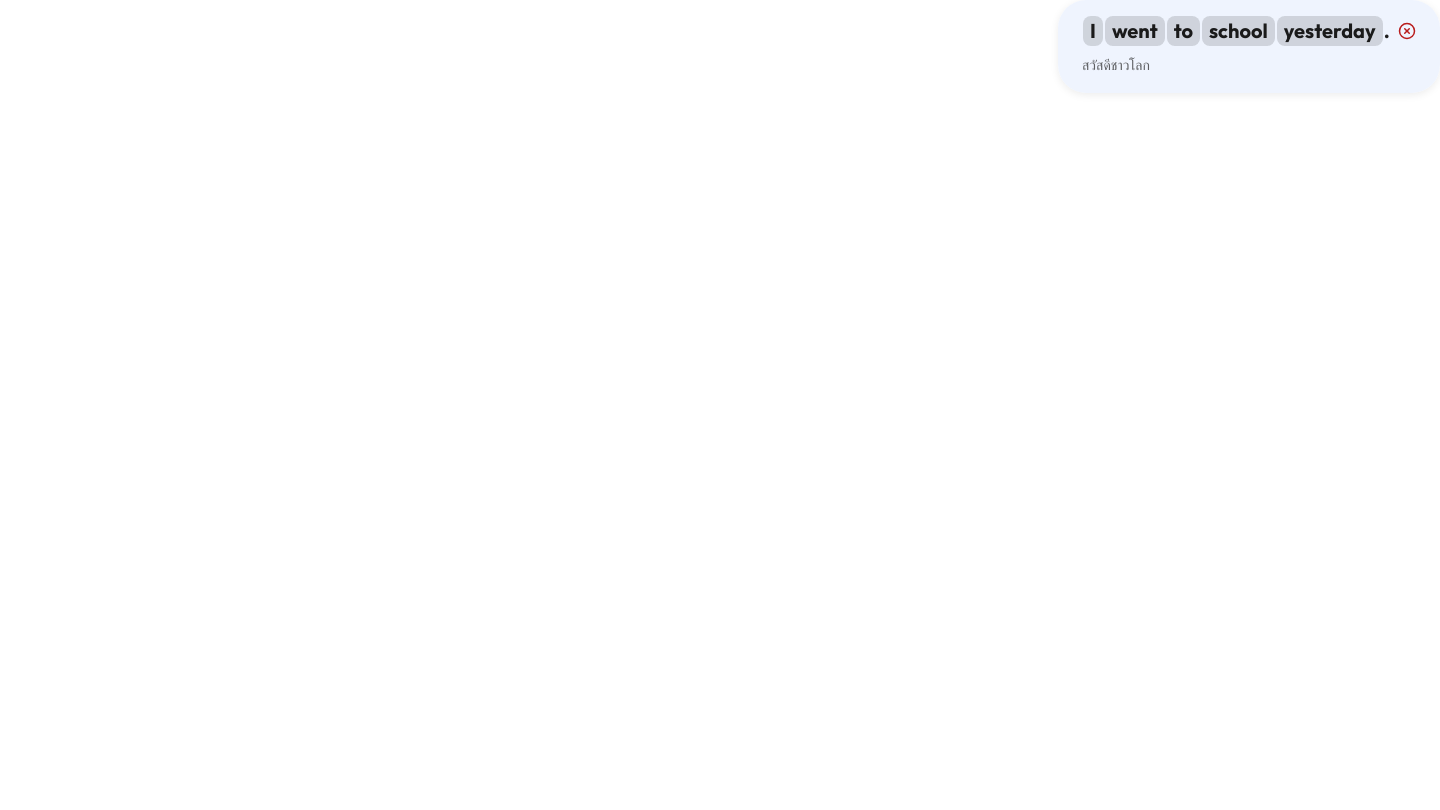
Test case: UserMessage › renders error icon and opens modal showing incorrect sentence, corrected sentence, and explanation
Note: Click to open modal
Click the button named "ดูรายละเอียดจุดที่ผิด". click: coordinates (1407, 31)
box: [1398,22,1416,40]
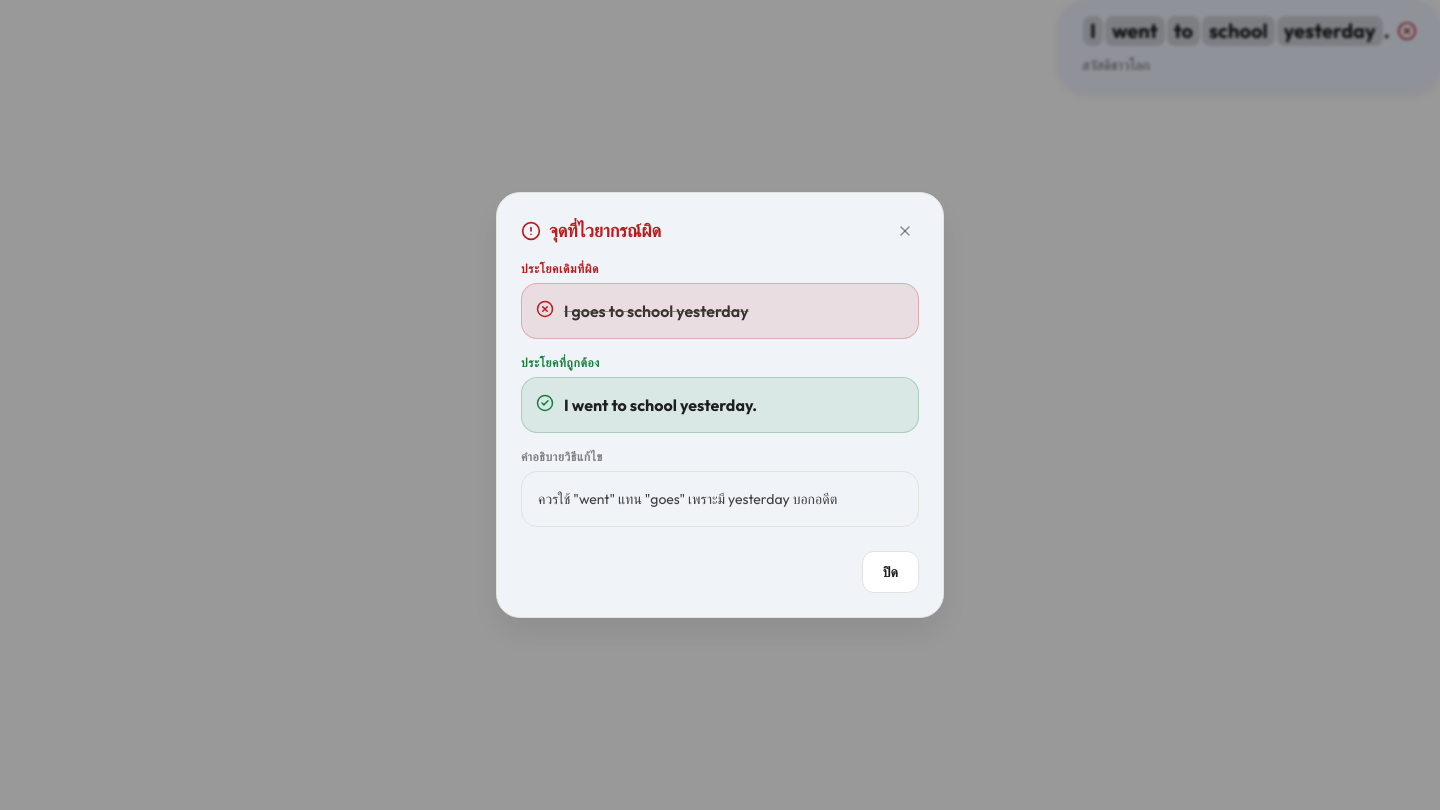
Expected: the text "จุดที่ไวยากรณ์ผิด" is shown, [549,217,661,245]
Expected: the text "ประโยคเดิมที่ผิด" is shown, [521,261,599,276]
Expected: the text "I goes to school yesterday" is shown, [564,298,749,324]
Note: Close modal
Click the button "ปิด". click: coordinates (890, 572)
box: [862,551,919,593]
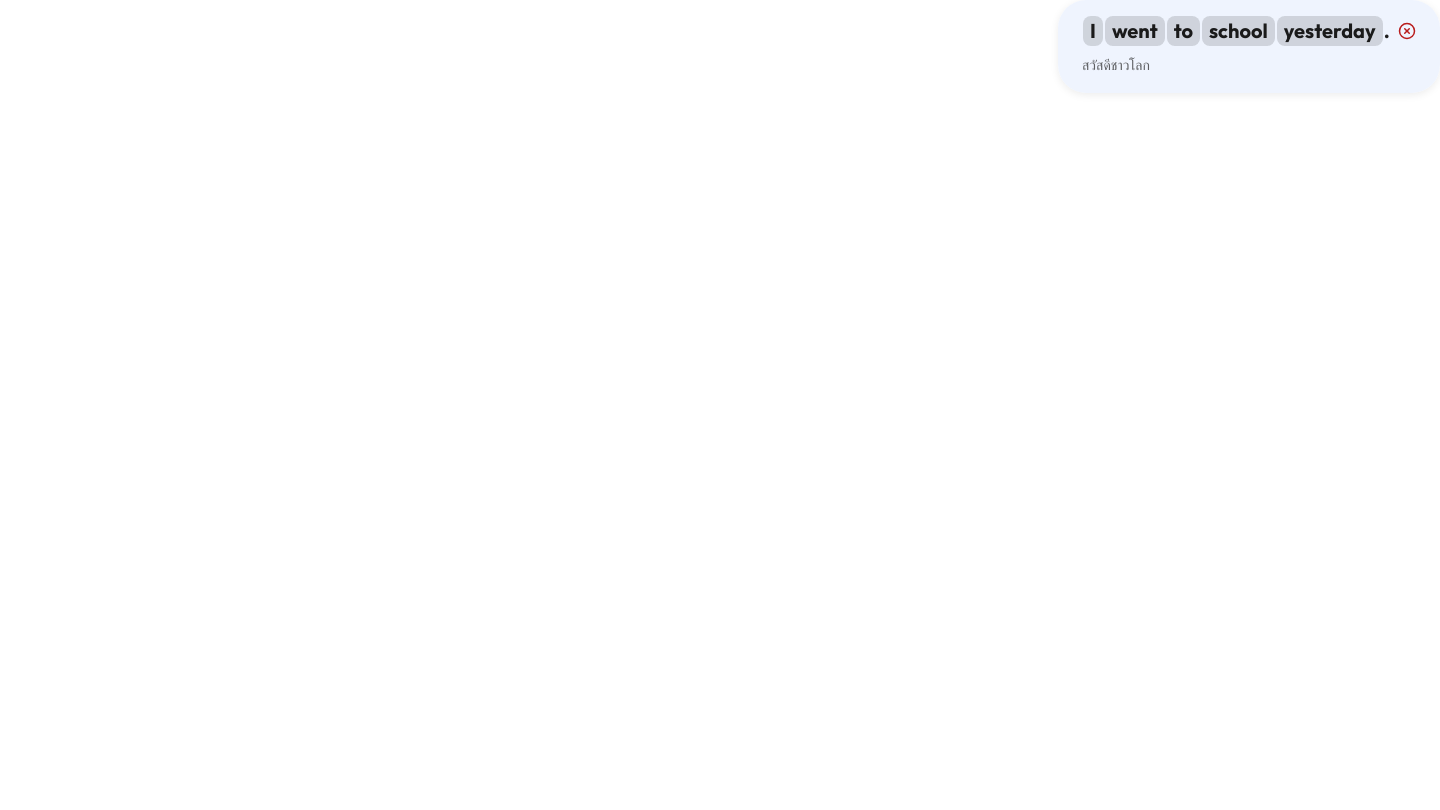
Expected: the text "จุดที่ไวยากรณ์ผิด" is gone
